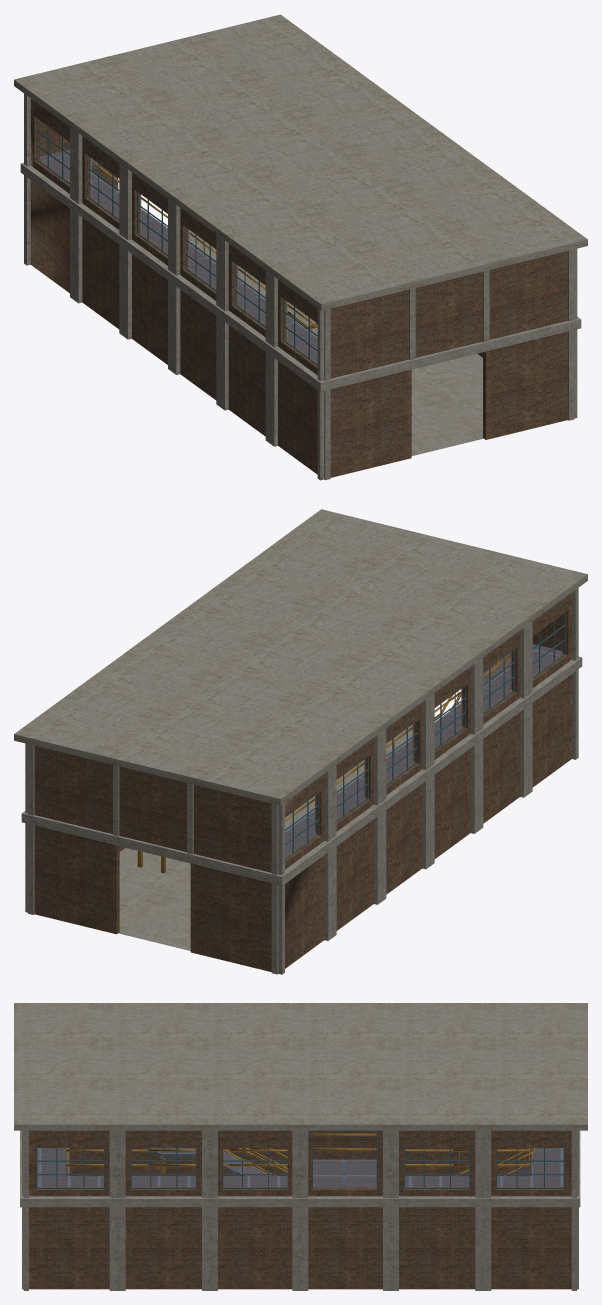
The model's file is Building_Fdc05_2048.glb.
3 views of the same model, one above another, from view 1: azimuth 30°, elevation 25°; view 2: azimuth 150°, elevation 25°; view 3: azimuth 270°, elevation 25° (orthographic). The views are drawn at different scales.
Parts seen in each view (by area): view 1: xiutz_fdc_05; view 2: xiutz_fdc_05; view 3: xiutz_fdc_05.
Part boxes in pixels (box(x1,y1,x2,y2)): xiutz_fdc_05: box(14, 14, 587, 480); xiutz_fdc_05: box(14, 509, 587, 974); xiutz_fdc_05: box(14, 1003, 587, 1290).
Bounding box in the file's own units: 18.19 × 12.1 × 36.32.
Materials: 1 (1 with a texture image).
